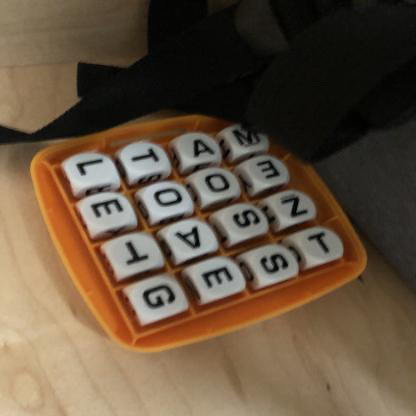a: (168, 221, 218, 256), (177, 135, 220, 163)
e: (190, 260, 246, 298), (80, 192, 134, 231), (248, 156, 291, 187)
g: (128, 277, 183, 319)
l: (67, 154, 114, 187)
m: (224, 125, 268, 155)
o: (145, 181, 190, 216), (195, 168, 240, 200)
s: (251, 244, 299, 283), (222, 205, 269, 238)
t: (109, 234, 163, 272), (297, 228, 347, 264), (121, 141, 166, 175)
z: (271, 191, 318, 222)
